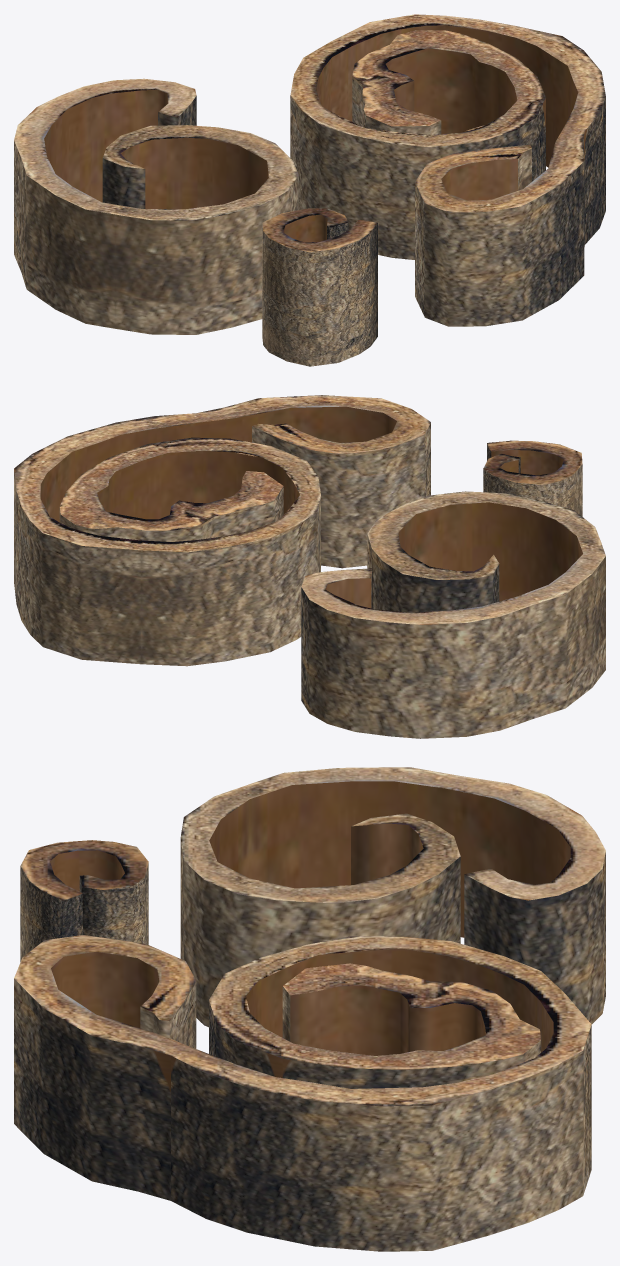
File: houpu.FBX
3 renders of one model, top to bottom at view 1: azimuth 30°, elevation 25°; view 2: azimuth 150°, elevation 25°; view 3: azimuth 270°, elevation 25°, orthographic. The views are drawn at different scales.
Parts seen in each view (by area): view 1: Line003, Line001, Line002; view 2: Line003, Line001, Line002; view 3: Line003, Line001, Line002.
Part boxes in pixels (left/top/right/bottom): Line003: left=290, top=14, right=605, bottom=326; Line001: left=14, top=78, right=298, bottom=334; Line002: left=262, top=208, right=377, bottom=366; Line003: left=14, top=395, right=430, bottom=666; Line001: left=301, top=491, right=605, bottom=738; Line002: left=483, top=440, right=582, bottom=516; Line003: left=14, top=935, right=591, bottom=1251; Line001: left=180, top=767, right=605, bottom=1027; Line002: left=20, top=840, right=148, bottom=961.
Size of the model in its own units: 40.01 by 8 by 29.51.
1 material, 1 textured.
